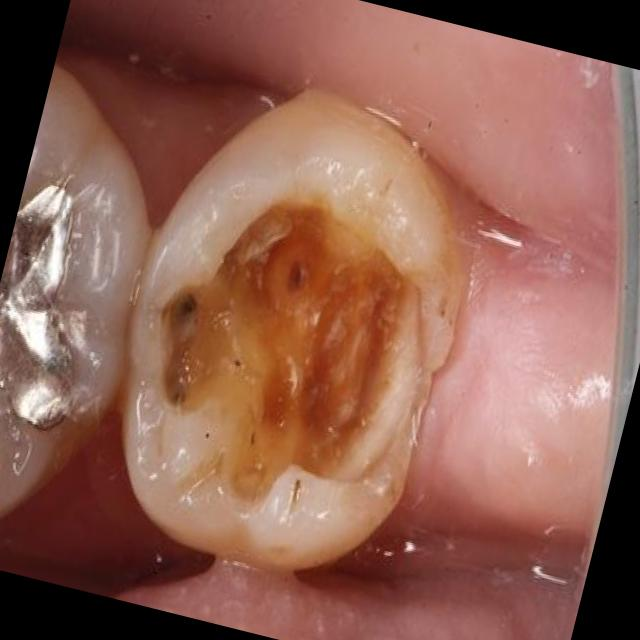Caries: (181, 292, 195, 312), (290, 263, 300, 283), (293, 479, 300, 499), (234, 359, 240, 366), (204, 432, 209, 438)
Cavity: (162, 200, 423, 512)
Tooth: (122, 83, 459, 571), (0, 64, 151, 518)
